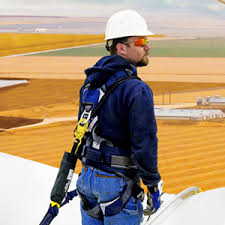Person_wearing_helmet: (100, 4, 156, 49)
